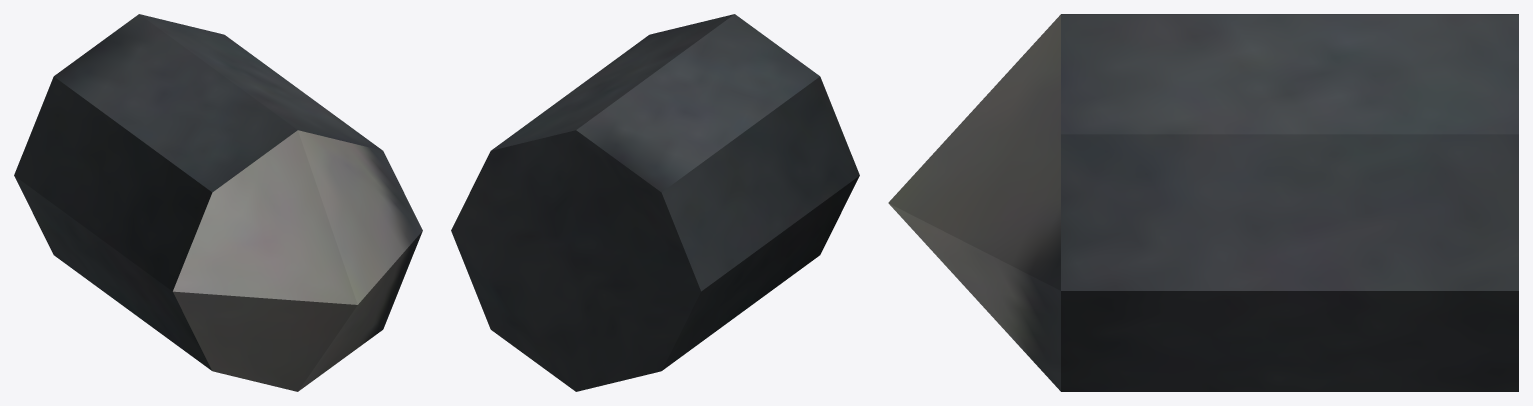
The model's file is bullet.obj.
3 renders of one model, left to right at view 1: azimuth 30°, elevation 25°; view 2: azimuth 150°, elevation 25°; view 3: azimuth 270°, elevation 25°, orthographic. The views are drawn at different scales.
Visible parts, largest first — view 1: Bullet_Cube; view 2: Bullet_Cube; view 3: Bullet_Cube.
Boxes of the visible parts, box(x1,y1,x2,y2) form: Bullet_Cube: box(14, 14, 422, 391); Bullet_Cube: box(451, 14, 859, 391); Bullet_Cube: box(888, 14, 1518, 391).
Bounding box in the file's own units: 0.7567 × 0.7567 × 1.15.
